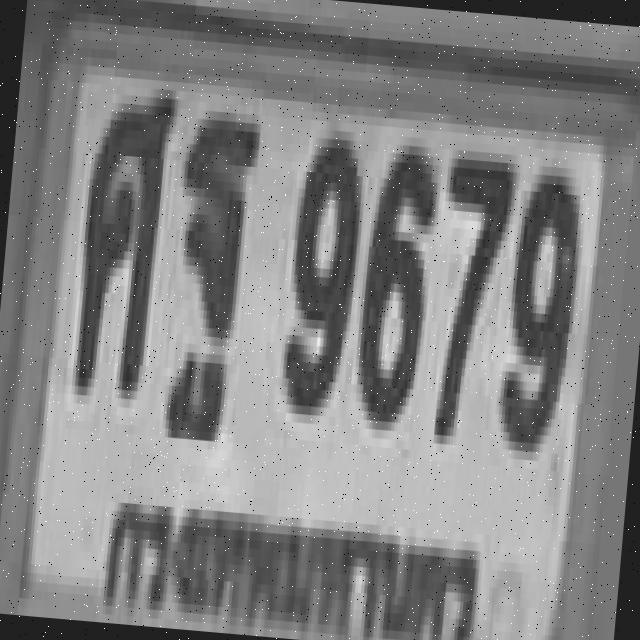25ThorThan: (162, 104, 258, 395)
47SorSala: (68, 75, 174, 392)
6: (350, 134, 438, 424)
7: (424, 141, 512, 439)
9: (493, 164, 582, 446), (277, 128, 363, 408)
